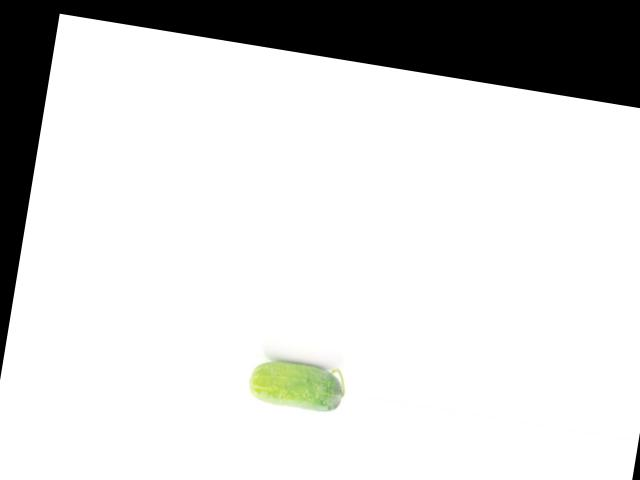cucumber: (244, 354, 347, 414)
